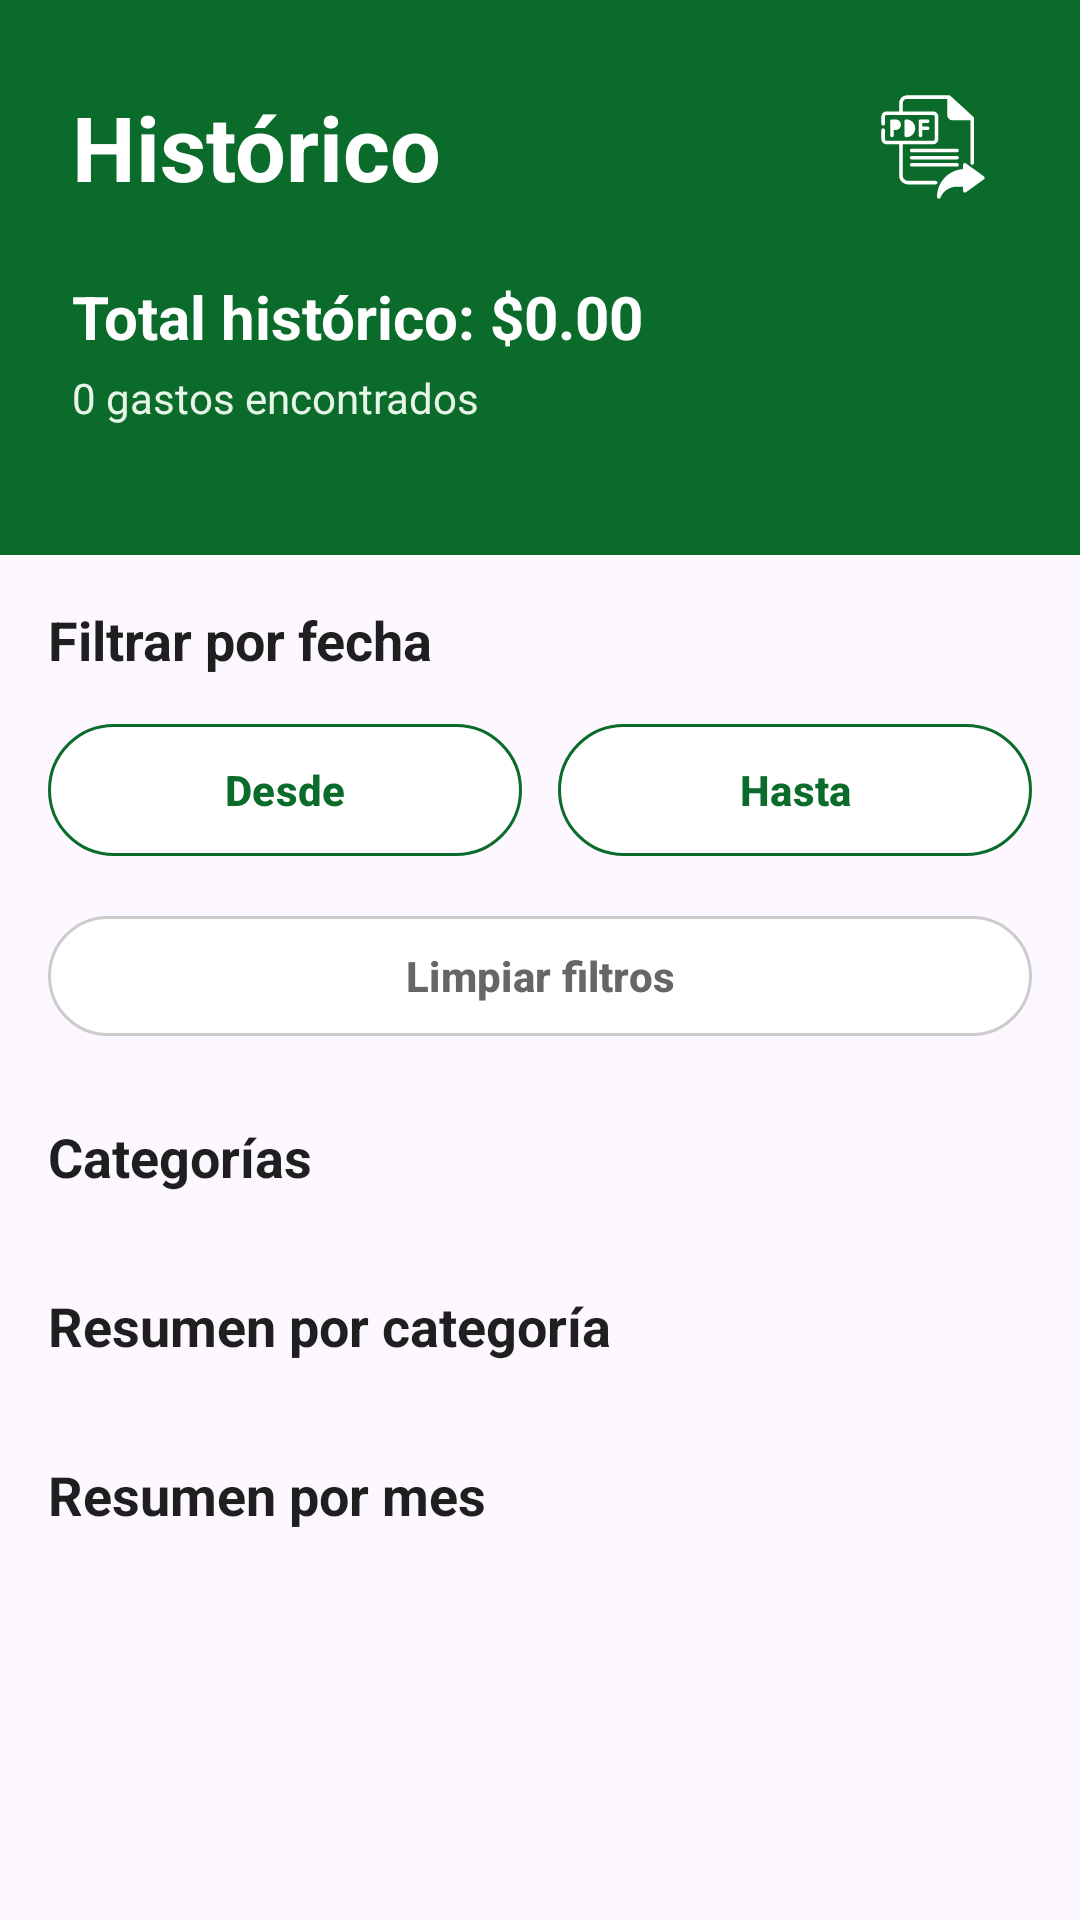

Icon click points for this 1080*1920 phone screenshot, format (x=x, y=y):
Exportar PDF: (x=933, y=147)
